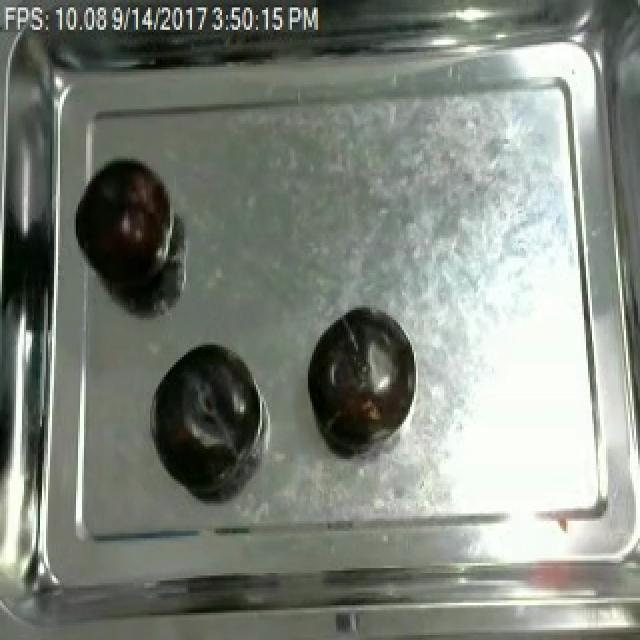Fruit: (148, 337, 260, 489), (304, 303, 418, 452), (70, 154, 180, 300)
